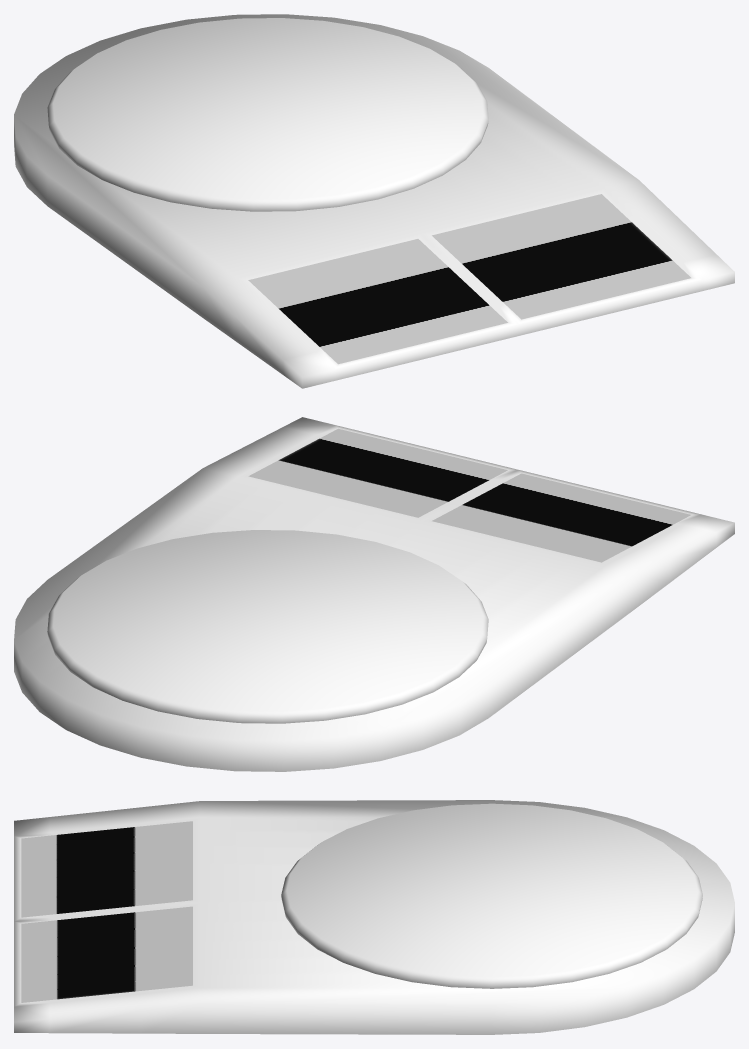
The model's file is Weighing Scale.fbx.
3 views of the same model, one above another, from view 1: azimuth 30°, elevation 25°; view 2: azimuth 150°, elevation 25°; view 3: azimuth 270°, elevation 25° (orthographic). The views are drawn at different scales.
Parts seen in each view (by area): view 1: Weighing Scale; view 2: Weighing Scale; view 3: Weighing Scale.
Boxes of the visible parts, bbox=[...] form: Weighing Scale: bbox=[14, 14, 734, 388]; Weighing Scale: bbox=[14, 417, 734, 771]; Weighing Scale: bbox=[14, 800, 734, 1034].
Size of the model in its own units: 200 by 19.01 by 297.
